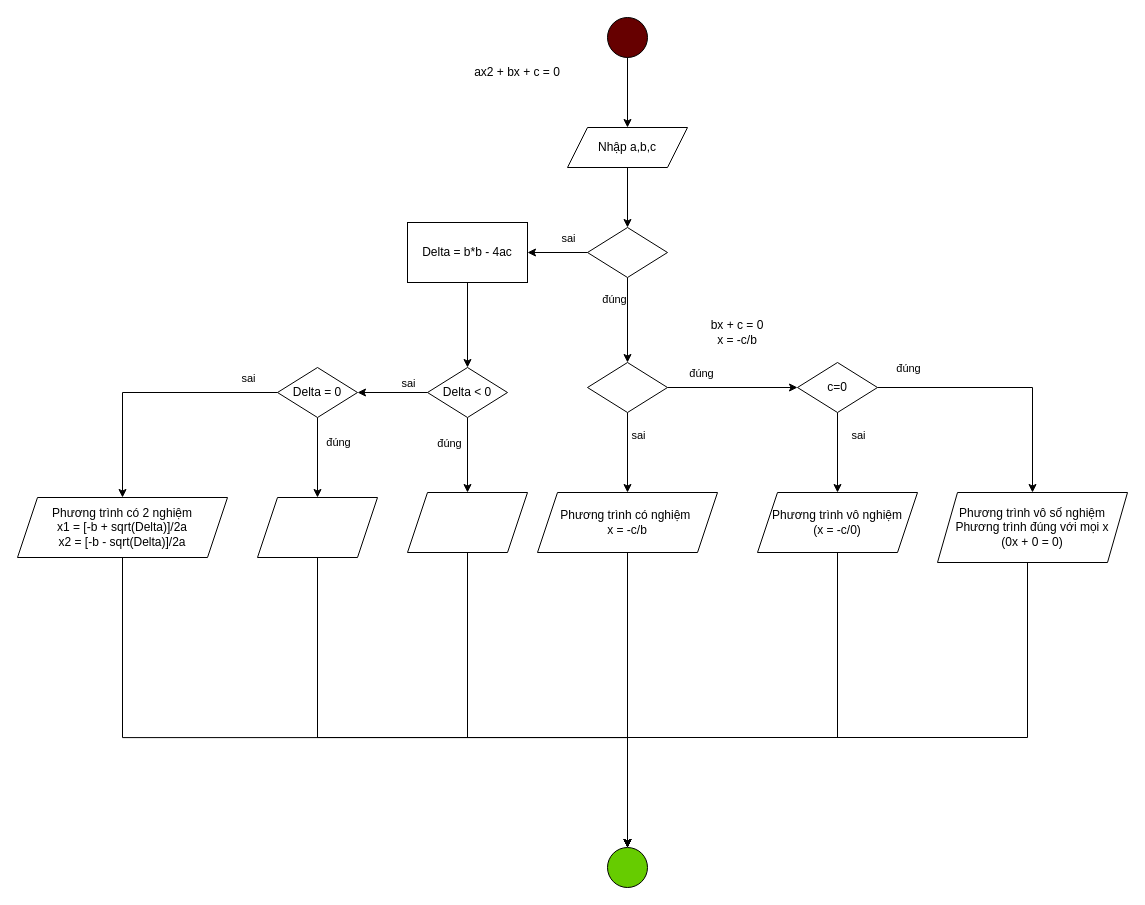
Some shapes in this 1145 by 905 pixel diagram are drawn without their labels. The shapes that lost their labels are listed below. From the top down, each one's centre as x and y in pixels, then its label:
At point 627,252: "a = 0".
At point 627,387: "b=0".
At point 317,527: "Phương trình có nghiệm kép x = -b/2a".
At point 467,522: "Phương trình vô nghiệm".
